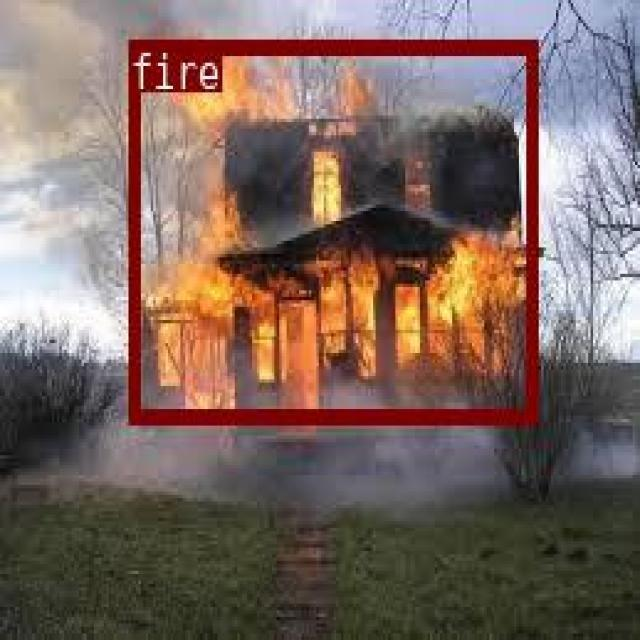fire: (127, 40, 535, 421)
